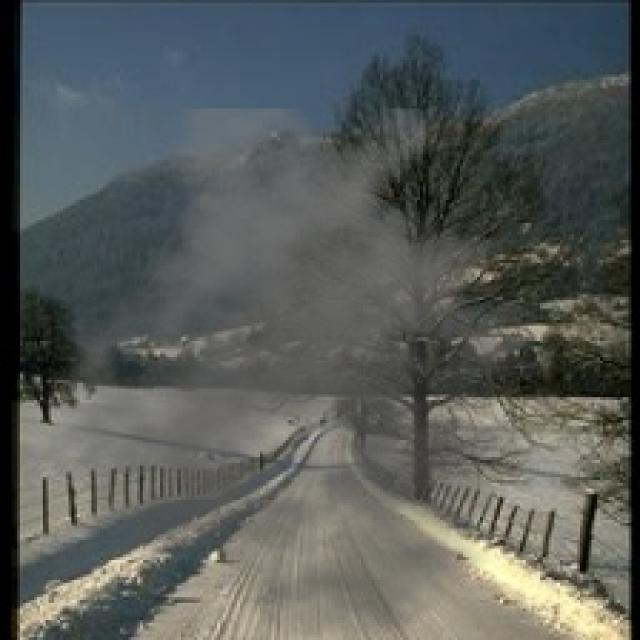Smoke: (37, 108, 592, 638)
